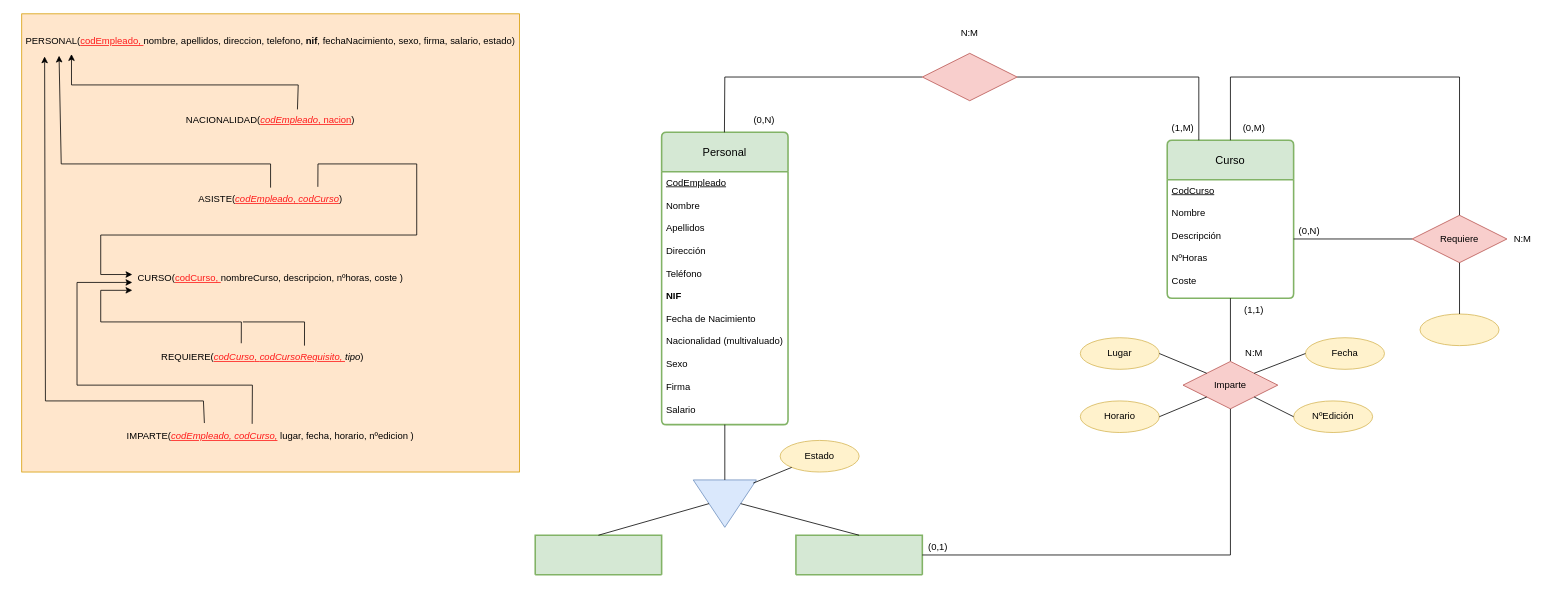
The diagram is 1559 pixels wide and 589 high, and some of its shapes have lost their labels. Each missing label, with the centre of its shape:
"Asiste" belongs at [969,77].
"Capacitado" belongs at [859,554].
"No capacitado" belongs at [598,554].
"Tipo" belongs at [1459,329].
